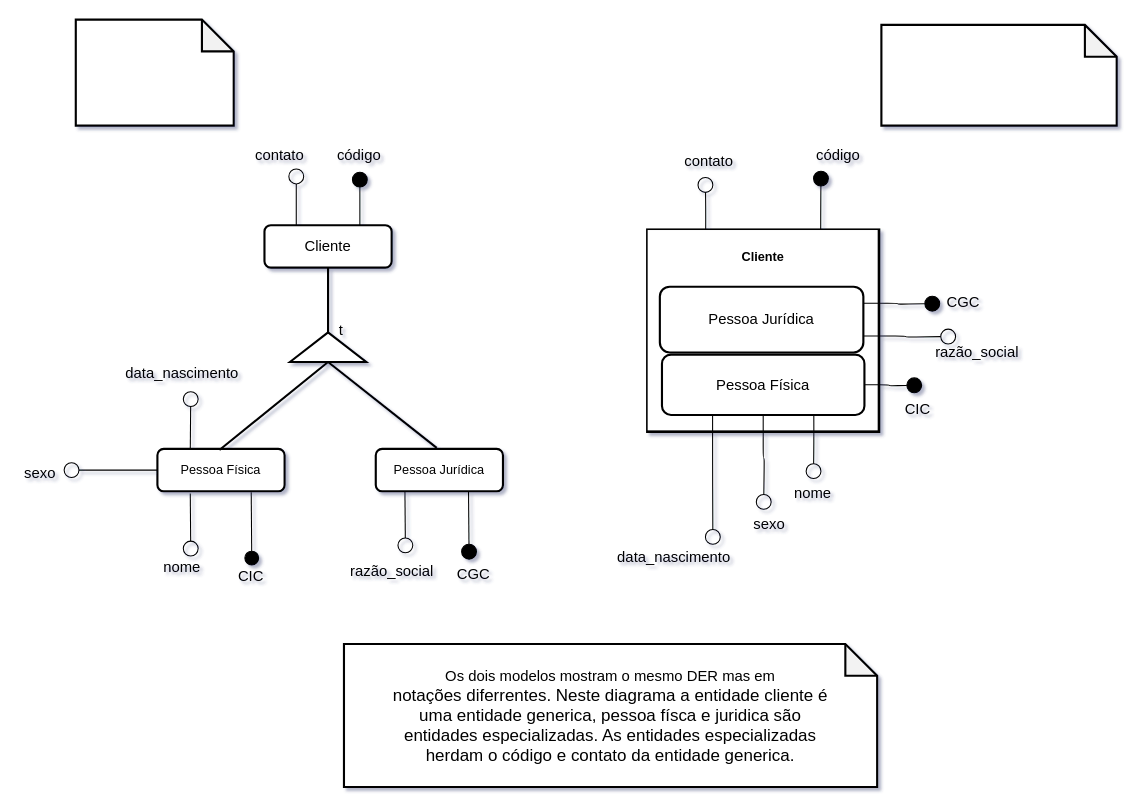
This 1142x812 diagram has some shape labels left out. The centre of each missing label's shape, as x and y in pixels:
"3.3 - DER usando a notação Chen." belongs at point 154,72.
"3.4 - DER usando a notação de engenharia de infomações" belongs at point 998,74.
